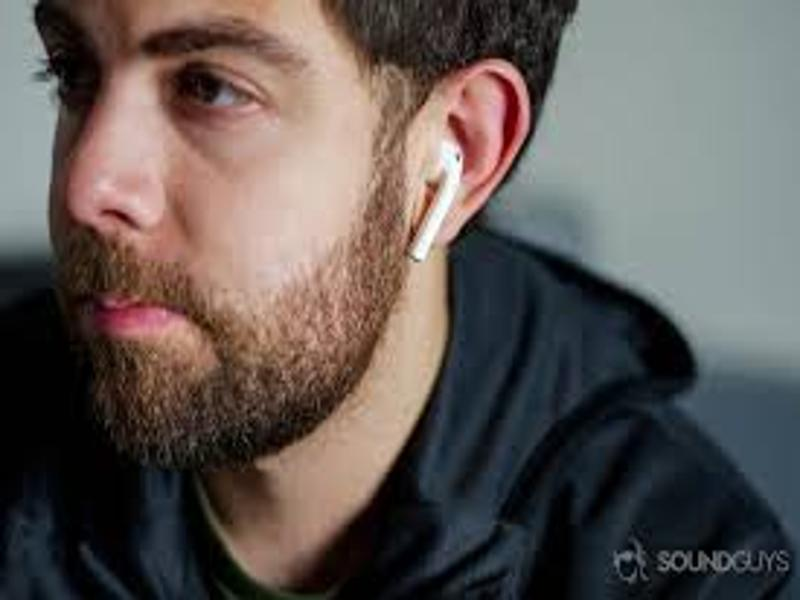headphone: (408, 140, 466, 265)
